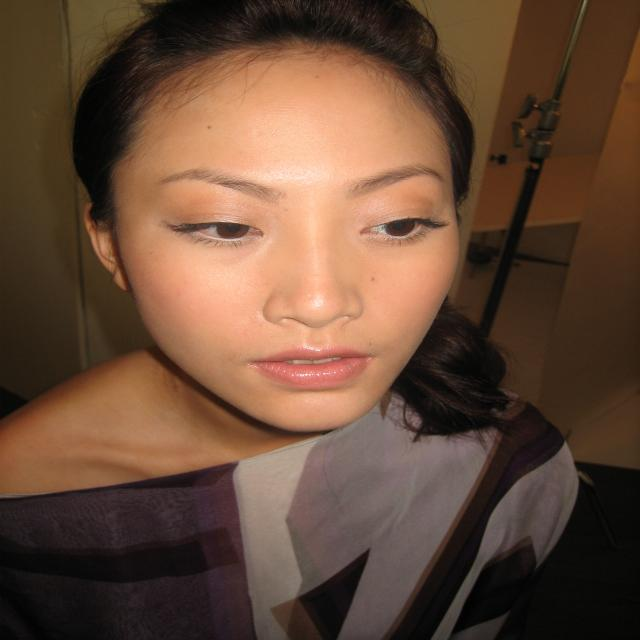front: (128, 99, 454, 412)
